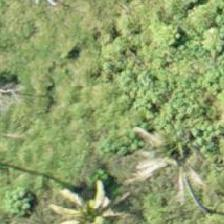coconut_tree: (128, 112, 218, 202), (43, 173, 133, 223)
